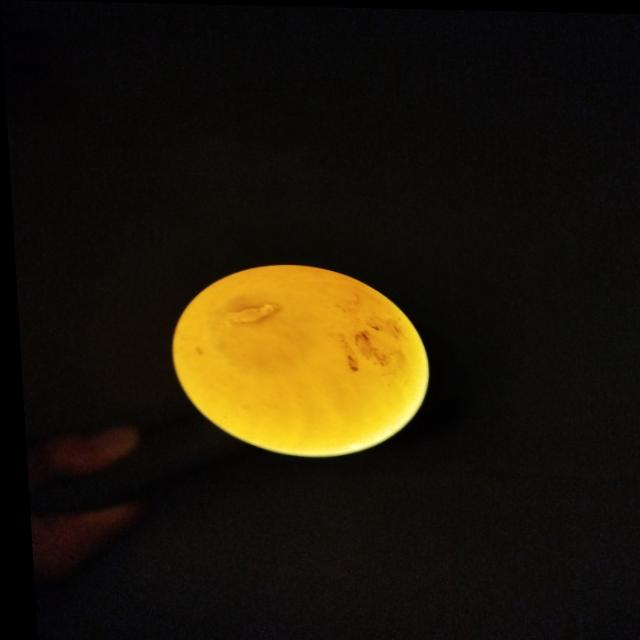Rachadura: (221, 303, 273, 323)
